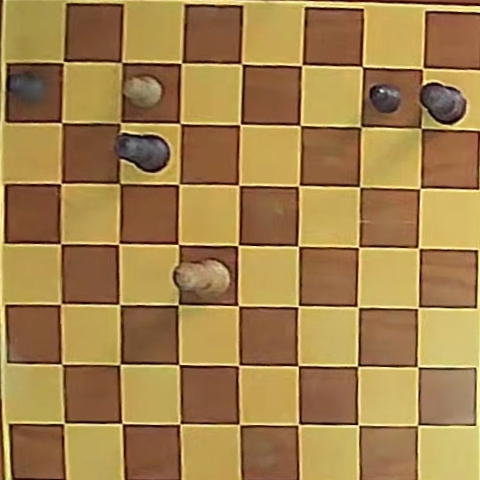black-king: (419, 82, 467, 124)
black-pawn: (8, 71, 46, 103), (369, 84, 402, 113)
black-queen: (116, 134, 171, 173)
white-king: (175, 259, 231, 297)
white-pawn: (124, 75, 163, 108)
